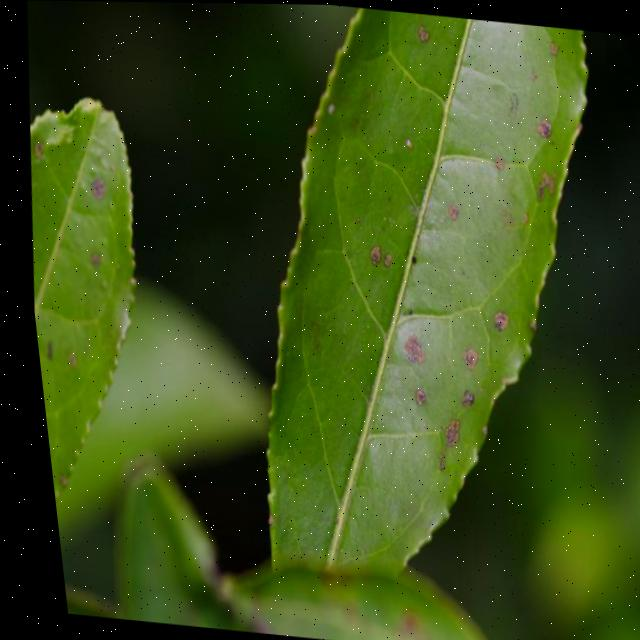Tea red rust: (336, 11, 574, 450)
